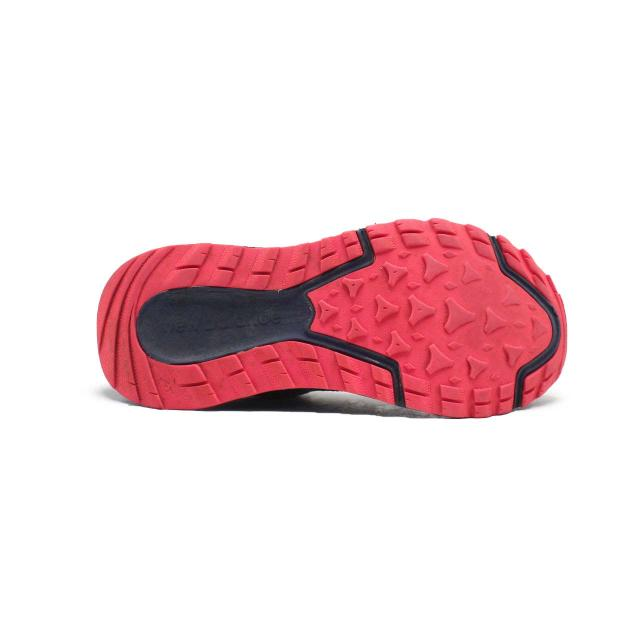outersole: (95, 222, 569, 419)
